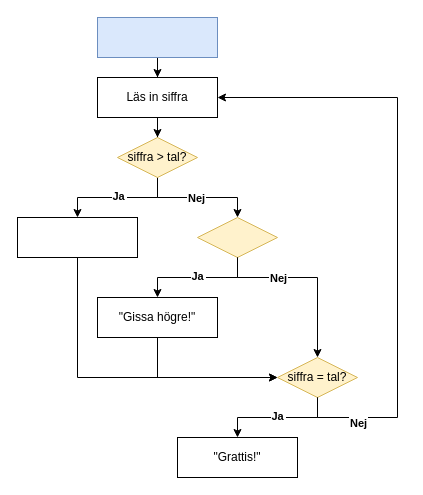
Image size: 423x495. Some labels were removed from this diagram. Here are the shapes that lost their labels. From the top down, the box of each, then its label:
(96, 16, 218, 58): Slumpa ett tal
(16, 216, 138, 258): "Gissa lägre!"
(196, 216, 278, 258): siffra < tal?
